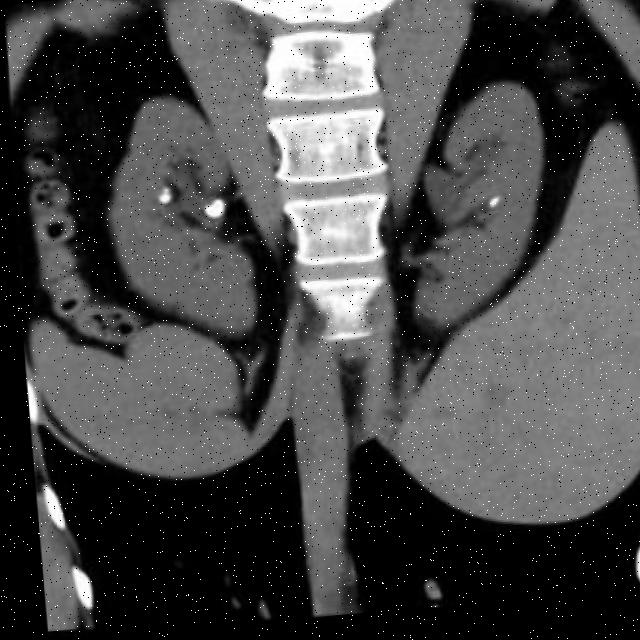Tas_Var: (198, 200, 222, 225), (484, 201, 498, 220), (154, 195, 168, 212), (154, 188, 167, 197)
